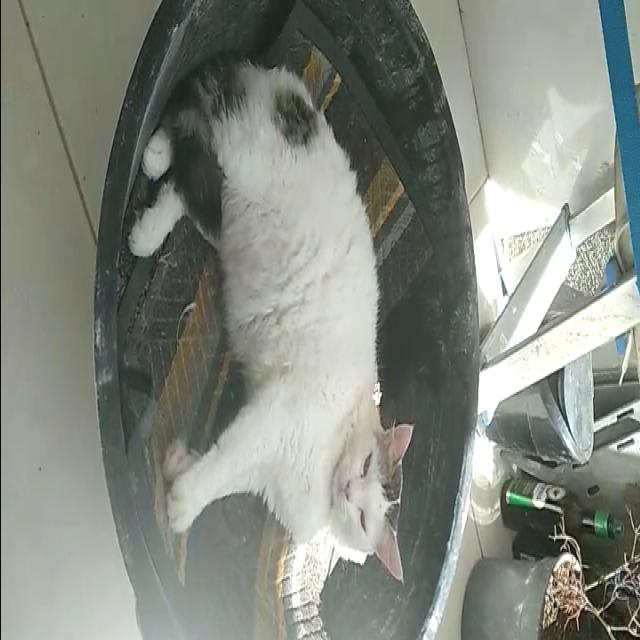Simba: (117, 37, 438, 620)
